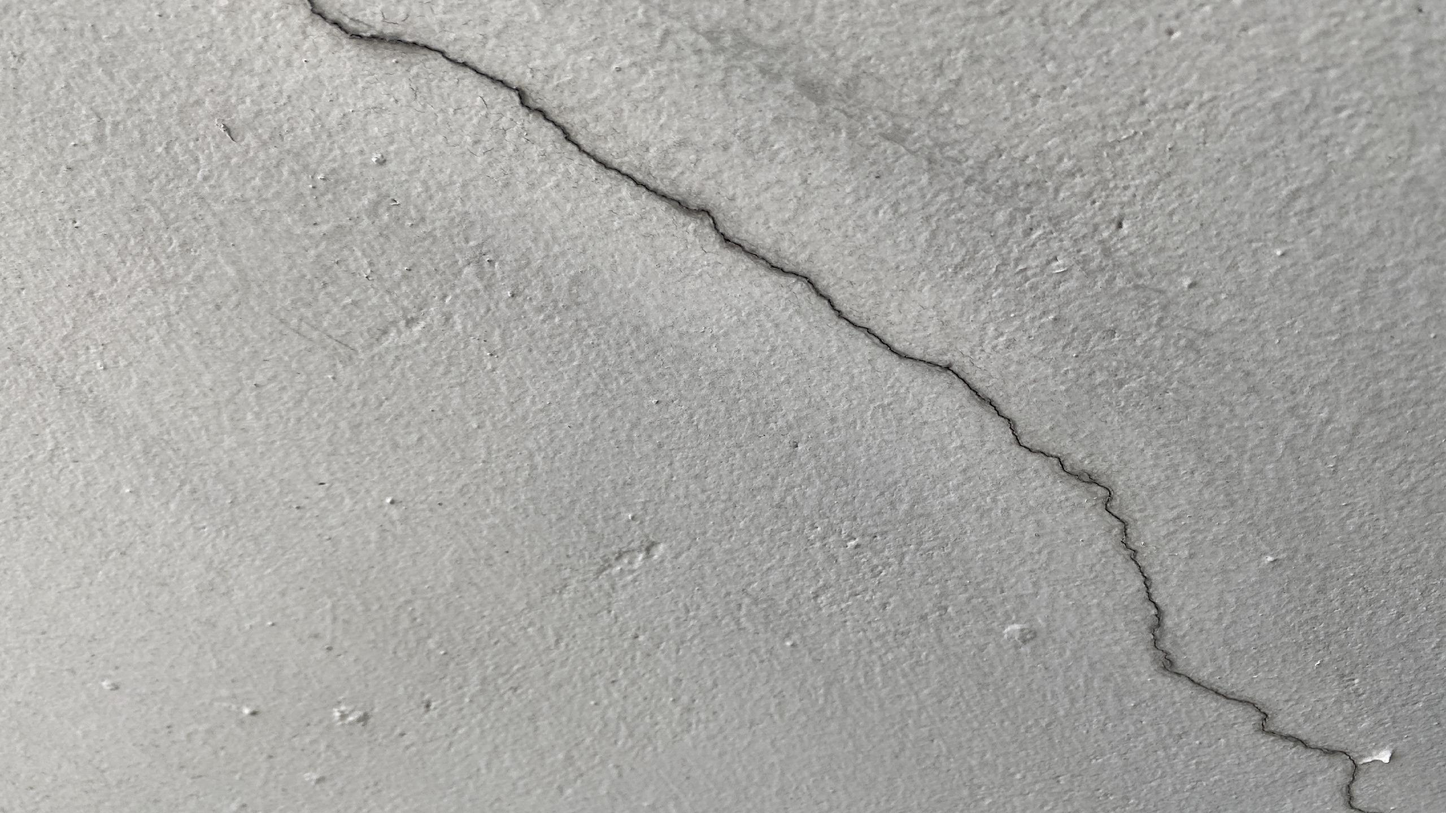crack: (306, 2, 1368, 812)
